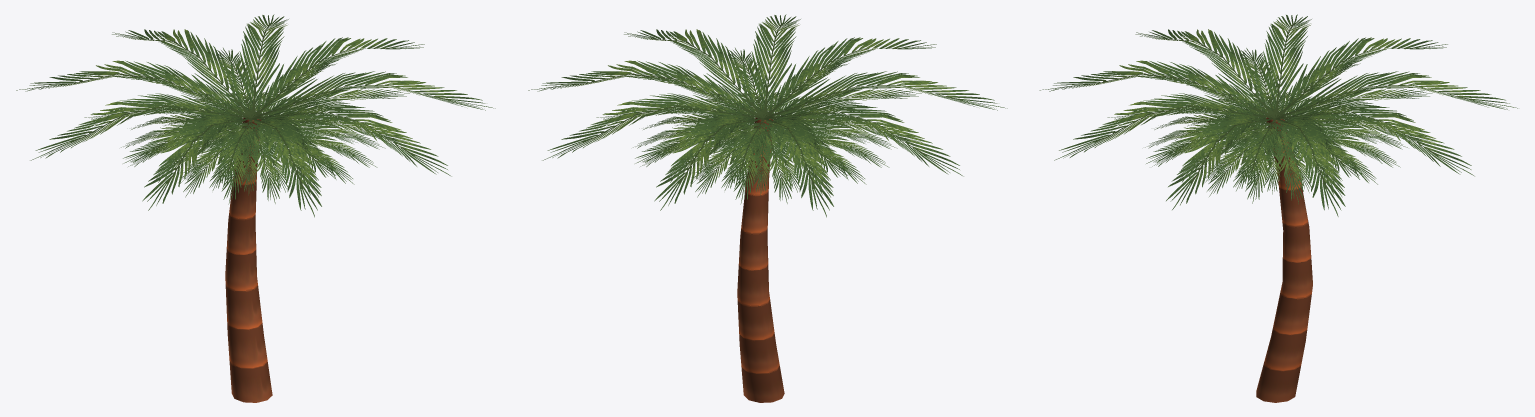
Rendered from Tree.fbx.
3 views of the same model, side by side, from view 1: azimuth 30°, elevation 25°; view 2: azimuth 150°, elevation 25°; view 3: azimuth 270°, elevation 25° (orthographic).
Parts seen in each view (by area): view 1: polySurface151; view 2: polySurface151; view 3: polySurface151.
Part boxes in pixels (<box>): polySurface151: <box>16,14,495,402</box>; polySurface151: <box>528,14,1007,402</box>; polySurface151: <box>1039,14,1517,402</box>.
Bounding box in the file's own units: 581 × 412 × 580.
